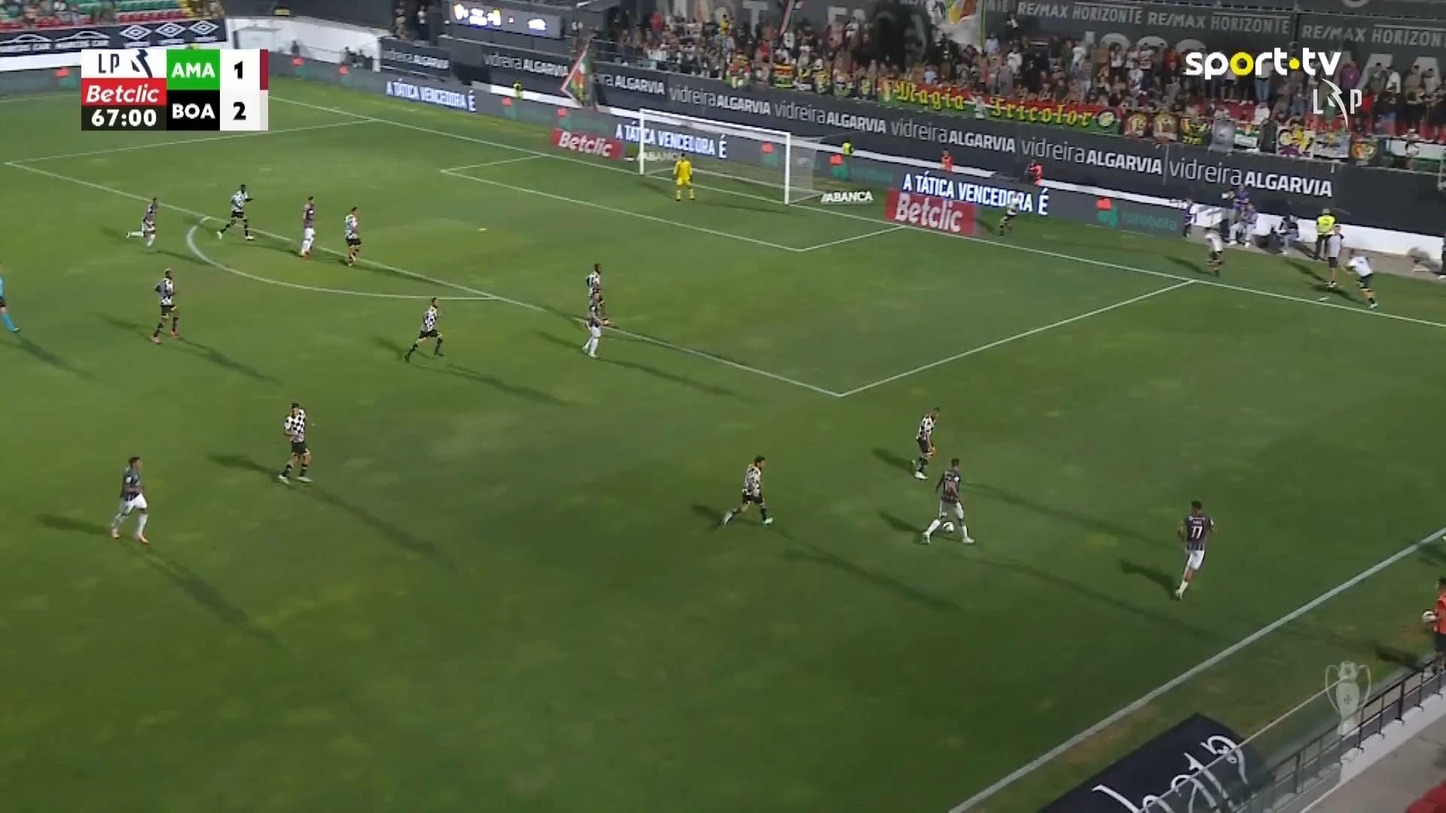ball: (943, 522, 954, 533)
goalkeeper: (671, 151, 696, 201)
player: (920, 456, 975, 544), (1173, 499, 1216, 600), (720, 454, 774, 527), (109, 455, 151, 544), (276, 401, 314, 483), (403, 296, 444, 361), (149, 267, 181, 343), (215, 183, 255, 241), (911, 407, 940, 480), (125, 196, 159, 247), (584, 262, 608, 322), (342, 206, 362, 266), (297, 195, 316, 257), (581, 308, 602, 358)
referee: (0, 263, 20, 332)
